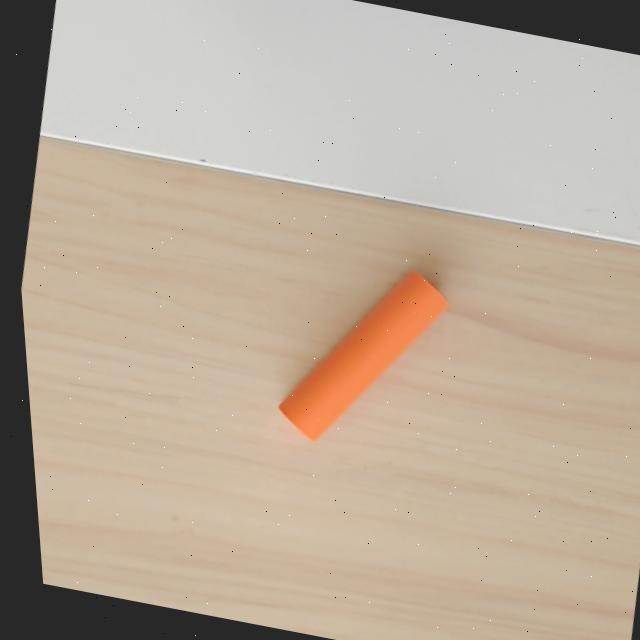Silinder-Jingga-10025: (276, 267, 451, 443)
